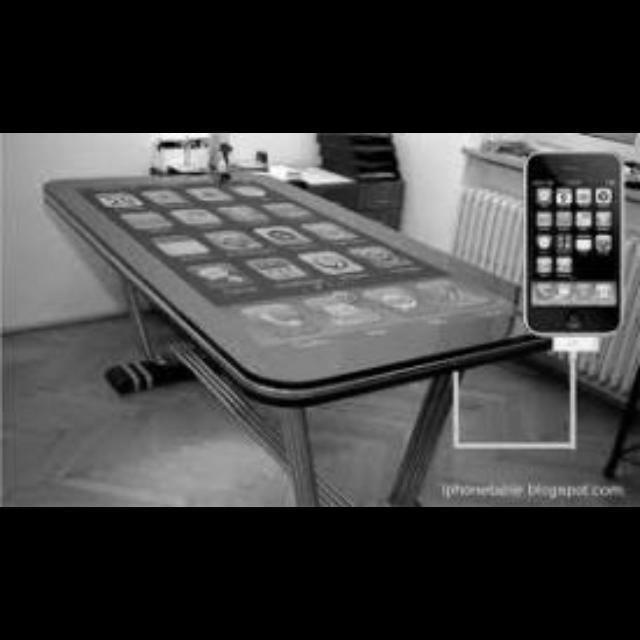fake: (514, 136, 632, 370)
